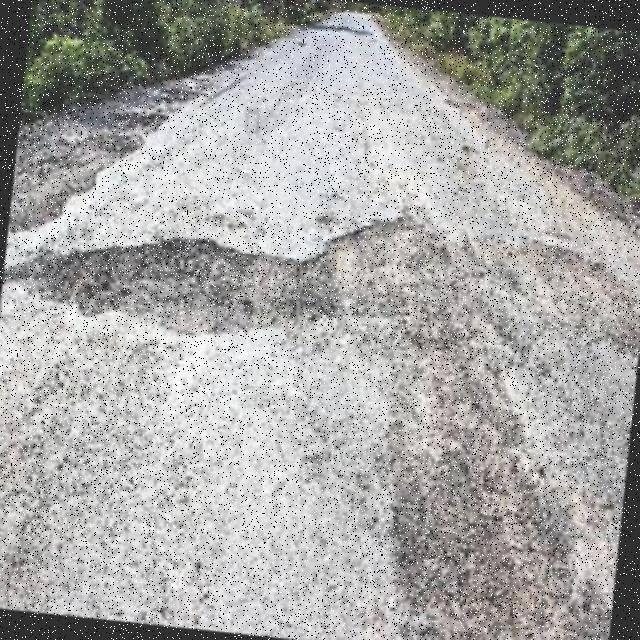Pothole: (2, 238, 340, 333)
